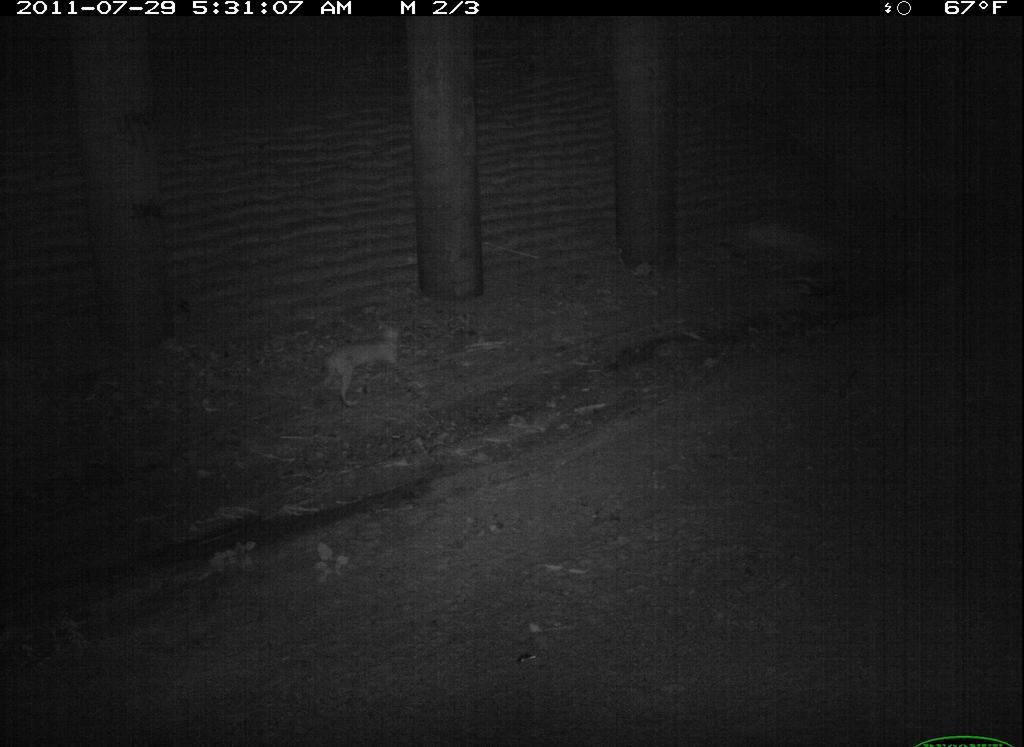bobcat: (624, 631, 828, 747)
